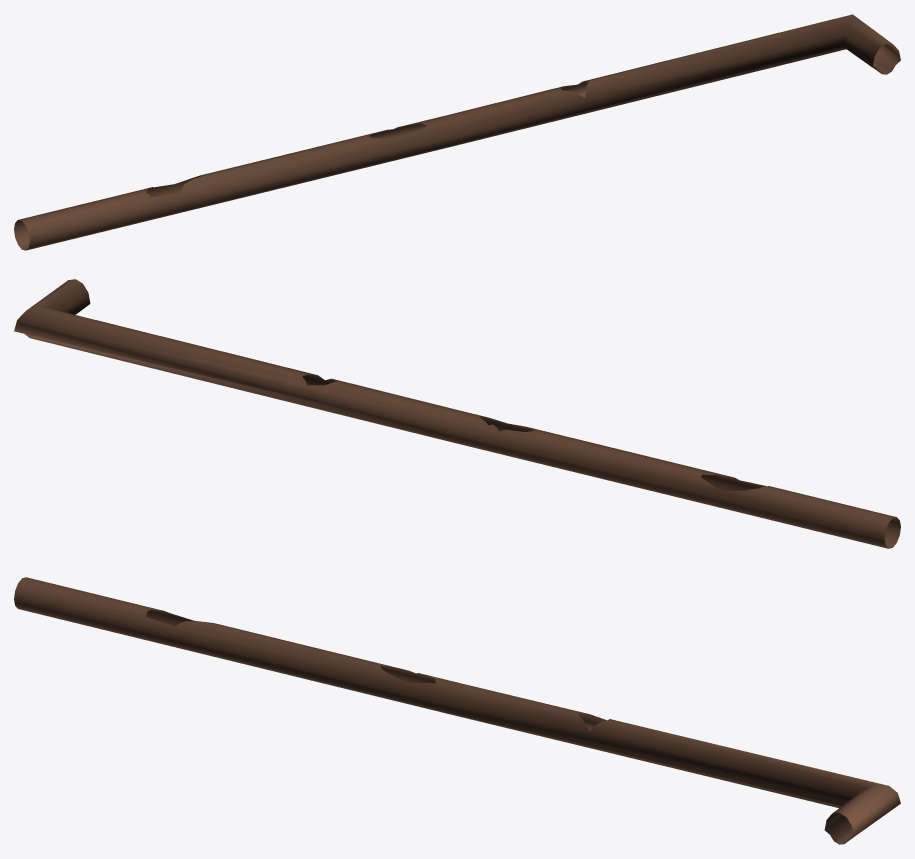
The model's file is Old pipes left.fbx.
3 renders of one model, top to bottom at view 1: azimuth 30°, elevation 25°; view 2: azimuth 150°, elevation 25°; view 3: azimuth 330°, elevation 25°, orthographic. The views are drawn at different scales.
Visible parts, largest first — view 1: BezierCurve.004; view 2: BezierCurve.004; view 3: BezierCurve.004.
Boxes of the visible parts, bbox=[...] form: BezierCurve.004: bbox=[14, 14, 900, 250]; BezierCurve.004: bbox=[14, 279, 900, 548]; BezierCurve.004: bbox=[14, 577, 900, 844].
Size of the model in its own units: 53.94 by 5.03 by 1.92.
